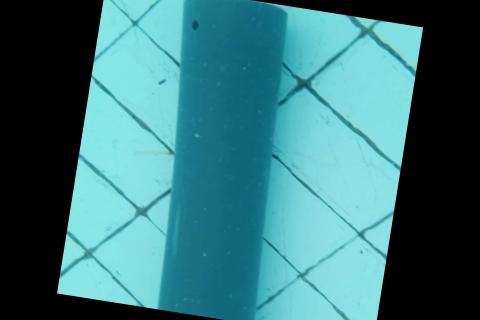kebocoran: (189, 17, 201, 30)
